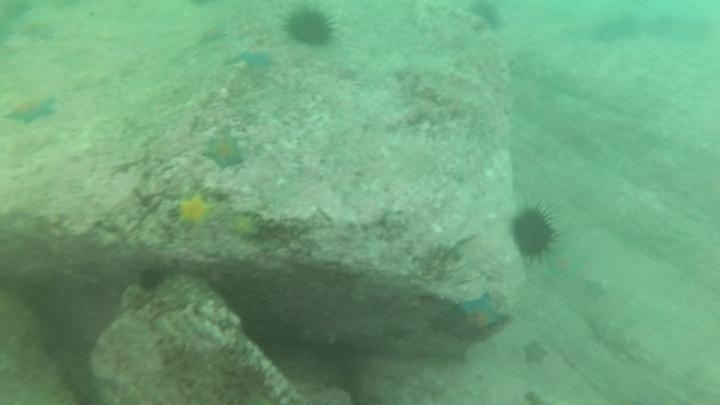echinus: (507, 201, 561, 264), (281, 5, 339, 51), (589, 12, 644, 48), (466, 1, 508, 36), (135, 265, 167, 294)
starfish: (451, 290, 511, 341), (3, 93, 59, 128), (200, 132, 248, 172), (172, 190, 217, 231), (542, 245, 588, 282), (230, 43, 278, 72), (225, 211, 263, 242), (519, 337, 551, 369), (195, 22, 231, 48), (579, 276, 609, 304)
